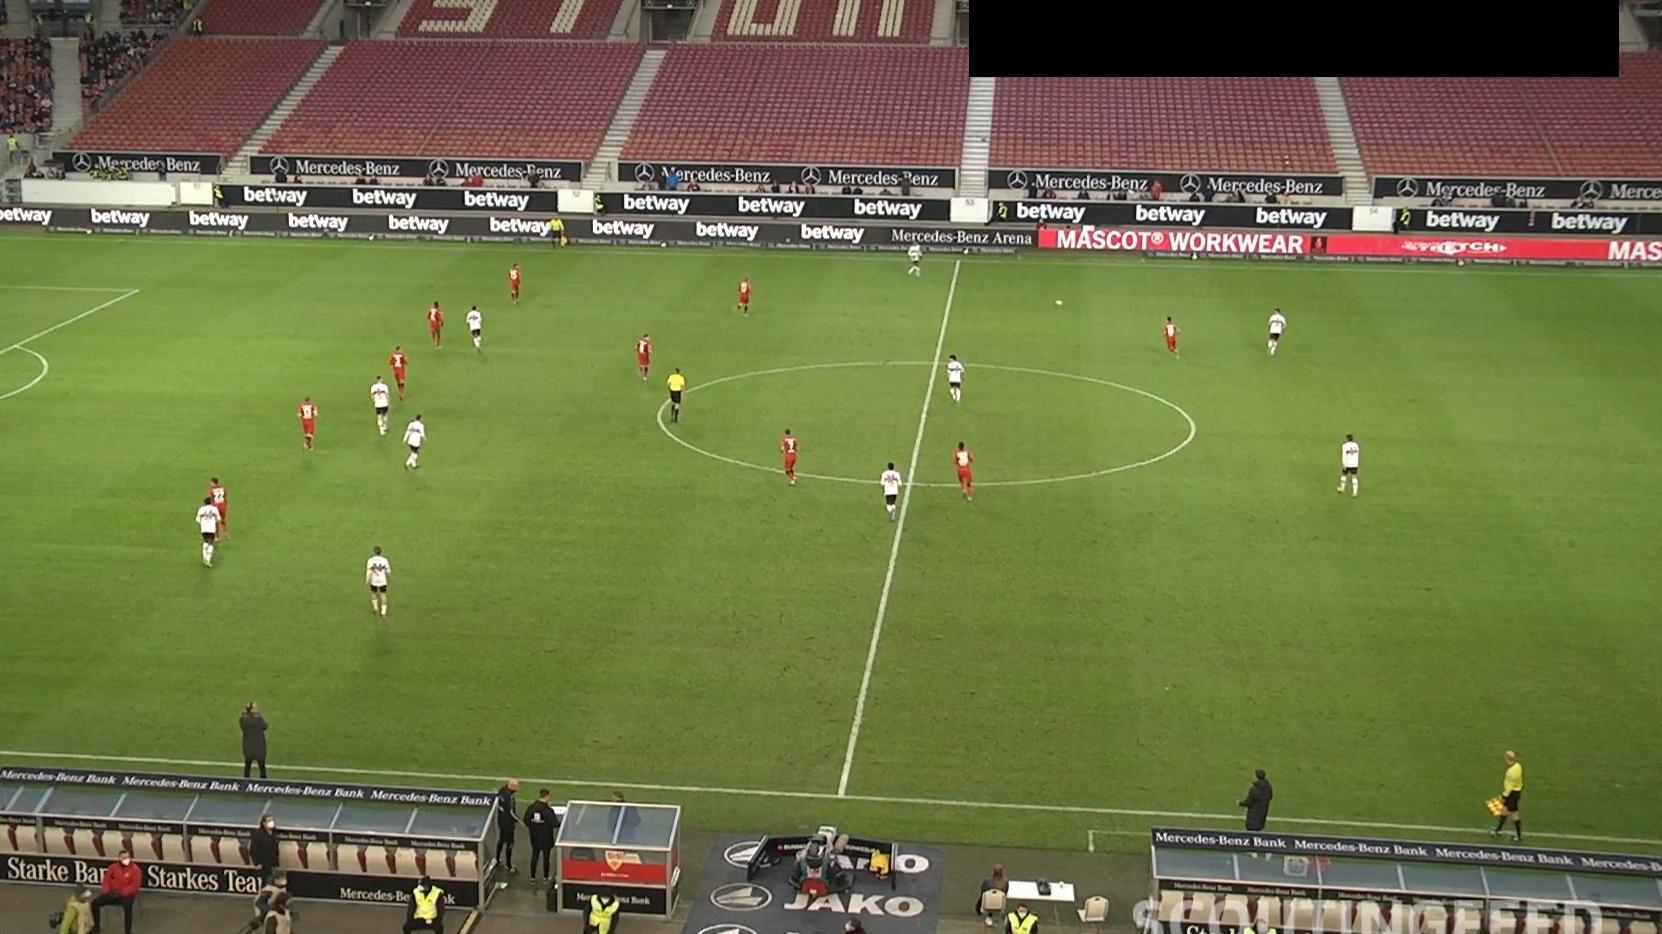ball: (1052, 298, 1065, 308)
